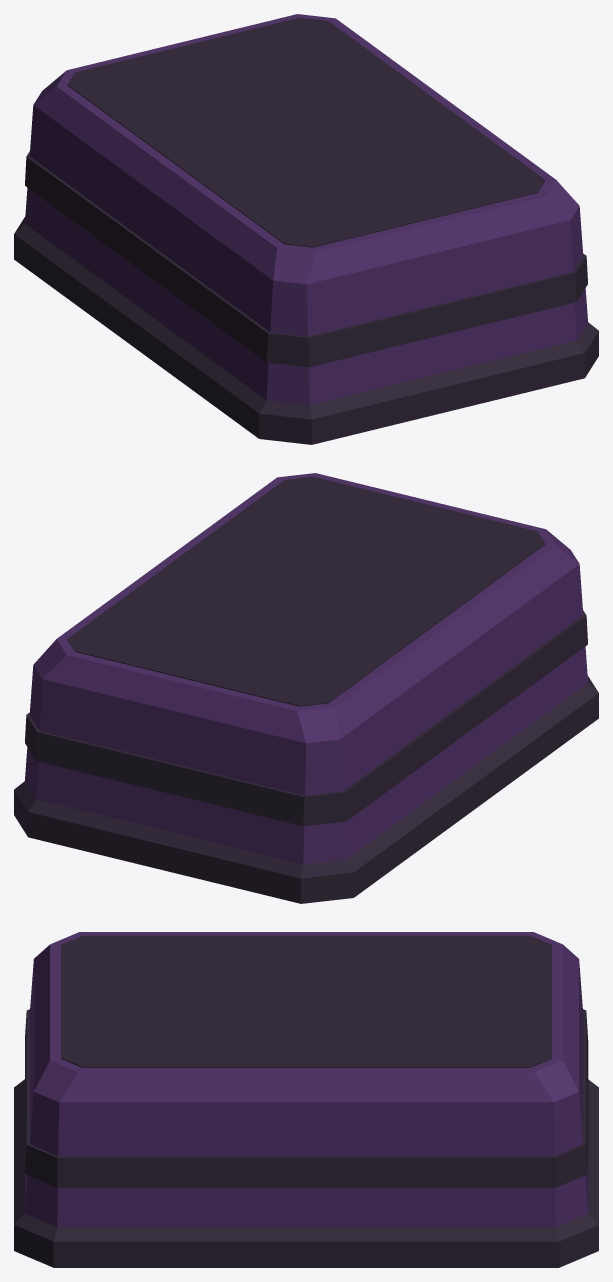
Rendered from SM_SB_Kit_AlienPlinth_200x300x110.fbx.
3 renders of one model, top to bottom at view 1: azimuth 30°, elevation 25°; view 2: azimuth 150°, elevation 25°; view 3: azimuth 270°, elevation 25°, orthographic. The views are drawn at different scales.
Visible parts, largest first — view 1: SM_SB_Kit_AlienPlinth_200x300x110; view 2: SM_SB_Kit_AlienPlinth_200x300x110; view 3: SM_SB_Kit_AlienPlinth_200x300x110.
Part boxes in pixels (x1,y1,x2,y2): SM_SB_Kit_AlienPlinth_200x300x110: (14, 14, 598, 444); SM_SB_Kit_AlienPlinth_200x300x110: (14, 473, 598, 903); SM_SB_Kit_AlienPlinth_200x300x110: (14, 932, 598, 1267).
Bounding box in the file's own units: 224 × 324 × 111.
